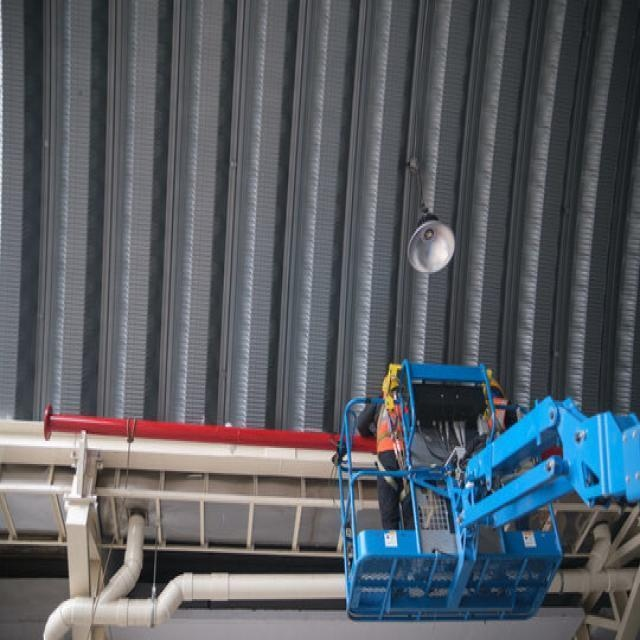Arnes_seguridad: (379, 399, 416, 501)
